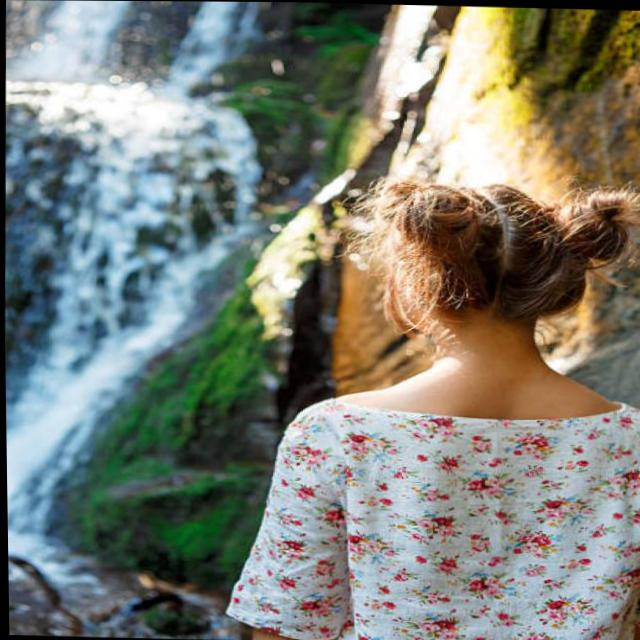no helmet: (346, 172, 640, 334)
